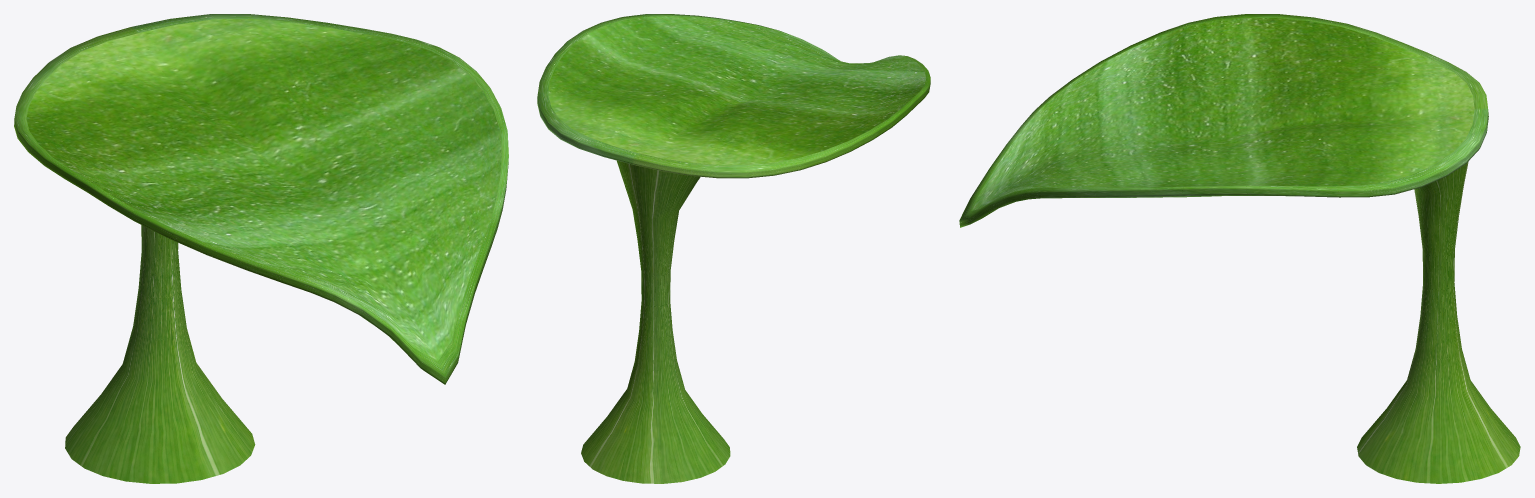
The model's file is leaf.FBX.
The picture shows the model from 3 angles, left to right: view 1: azimuth 30°, elevation 25°; view 2: azimuth 150°, elevation 25°; view 3: azimuth 270°, elevation 25°; orthographic projection. The views are drawn at different scales.
Parts seen in each view (by area): view 1: Cone001, Cone002; view 2: Cone001, Cone002; view 3: Cone001, Cone002.
Part boxes in pixels (<box>): Cone001: <box>14,14,508,384</box>; Cone002: <box>65,225,255,483</box>; Cone001: <box>537,14,930,178</box>; Cone002: <box>581,160,730,483</box>; Cone001: <box>959,14,1488,227</box>; Cone002: <box>1357,161,1520,483</box>.
Bounding box in the file's own units: 50.46 × 47.24 × 68.92.
2 materials, 2 textured.
